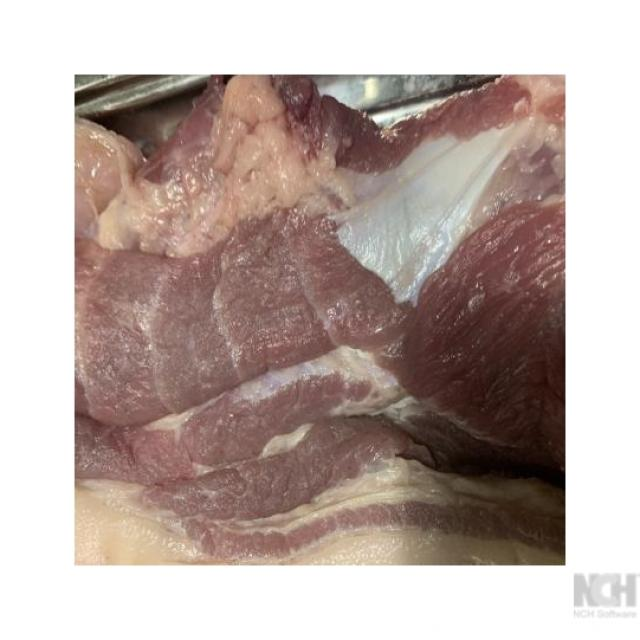rotten meat: (45, 53, 583, 568)
